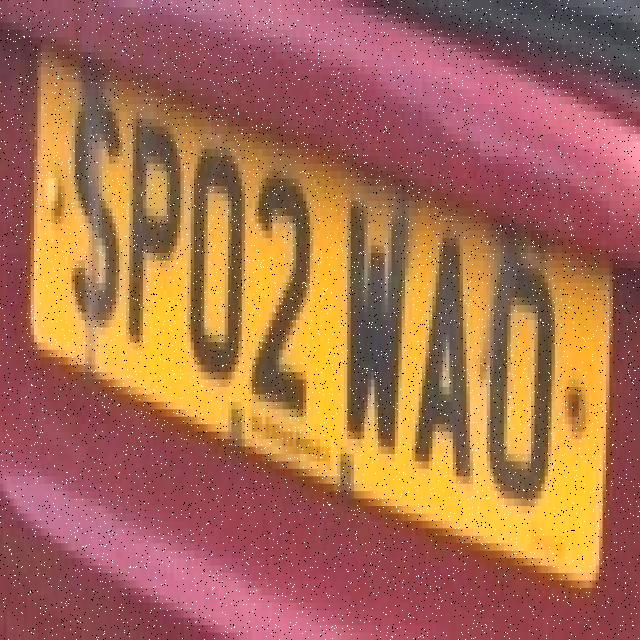licenseplate: (21, 12, 614, 584)
